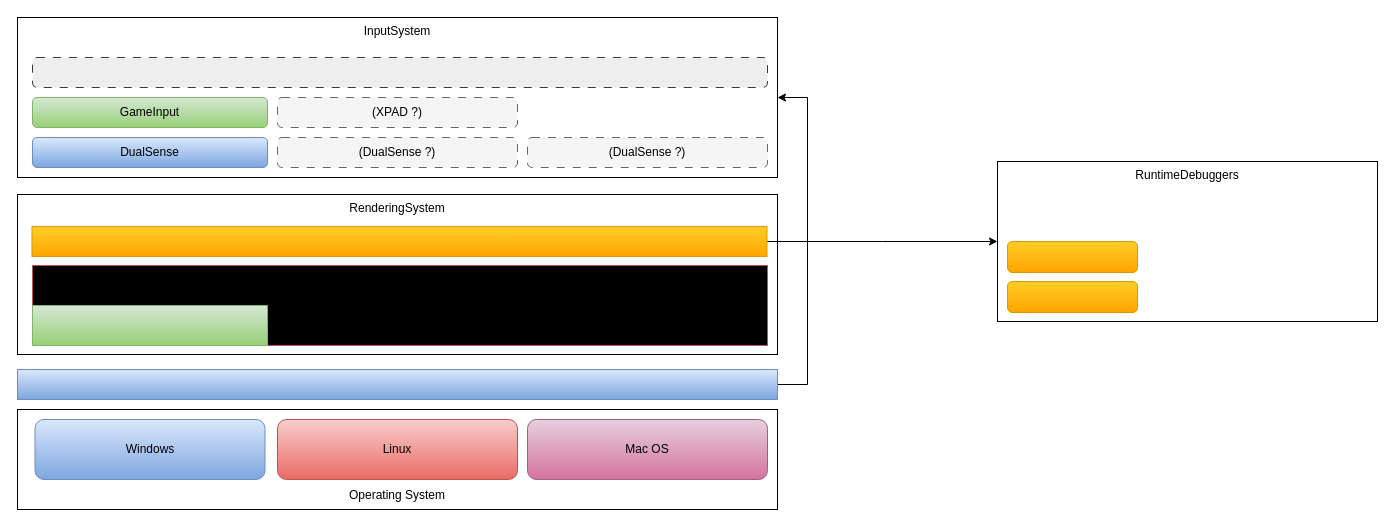
The diagram is 1395 pixels wide and 527 high, and some of its shapes have lost their labels. The centre of each missing label's shape, as x and y in pixels:
"D3D11/12" belongs at point (150, 325).
"Dear ImGui Runtime Debugger" belongs at point (399, 241).
"GLFW Window" belongs at point (397, 384).
"Input Debugger" belongs at point (1072, 296).
"libgamepad (?), ..." belongs at point (400, 72).
"Memory Debugger" belongs at point (1072, 256).
